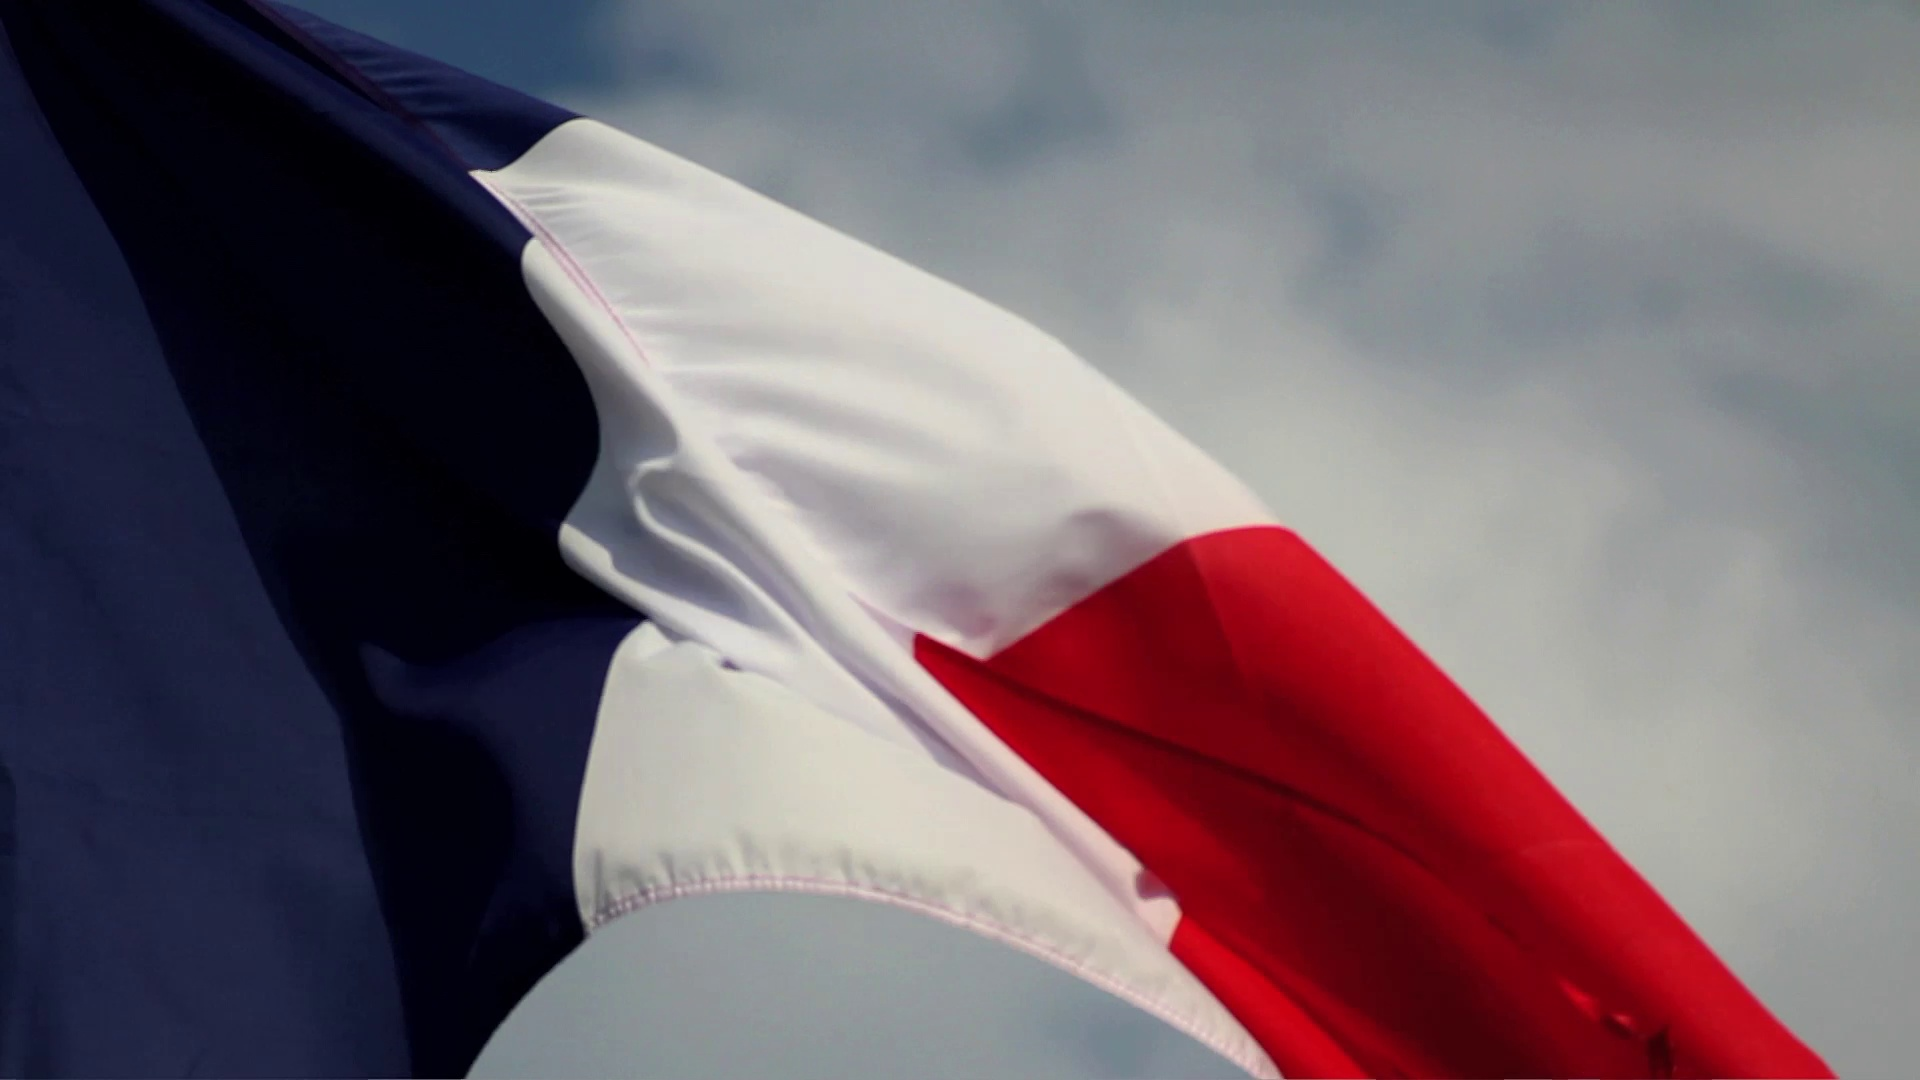French Flag: (1, 1, 1828, 1080)
